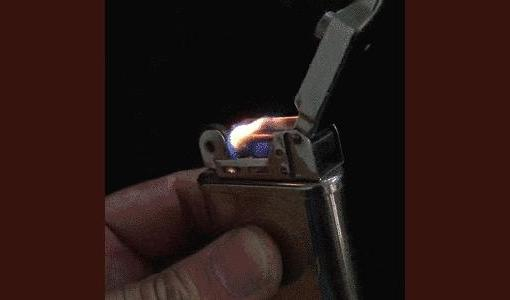fire: (220, 108, 301, 161)
